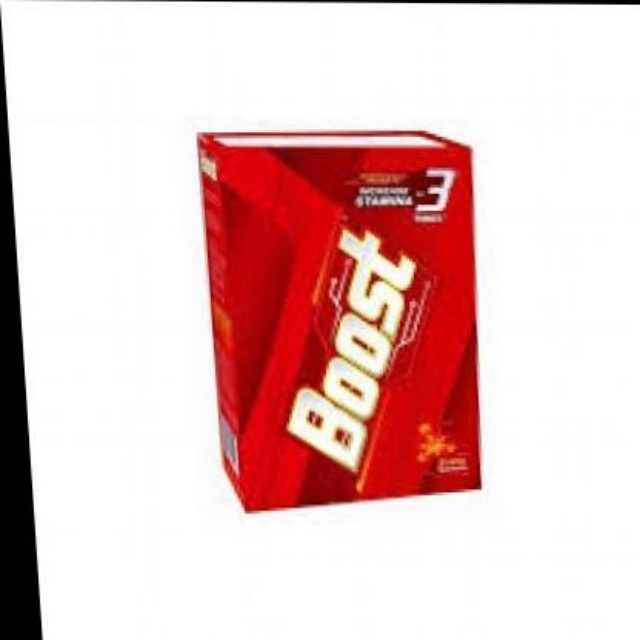trash: (198, 131, 478, 509)
